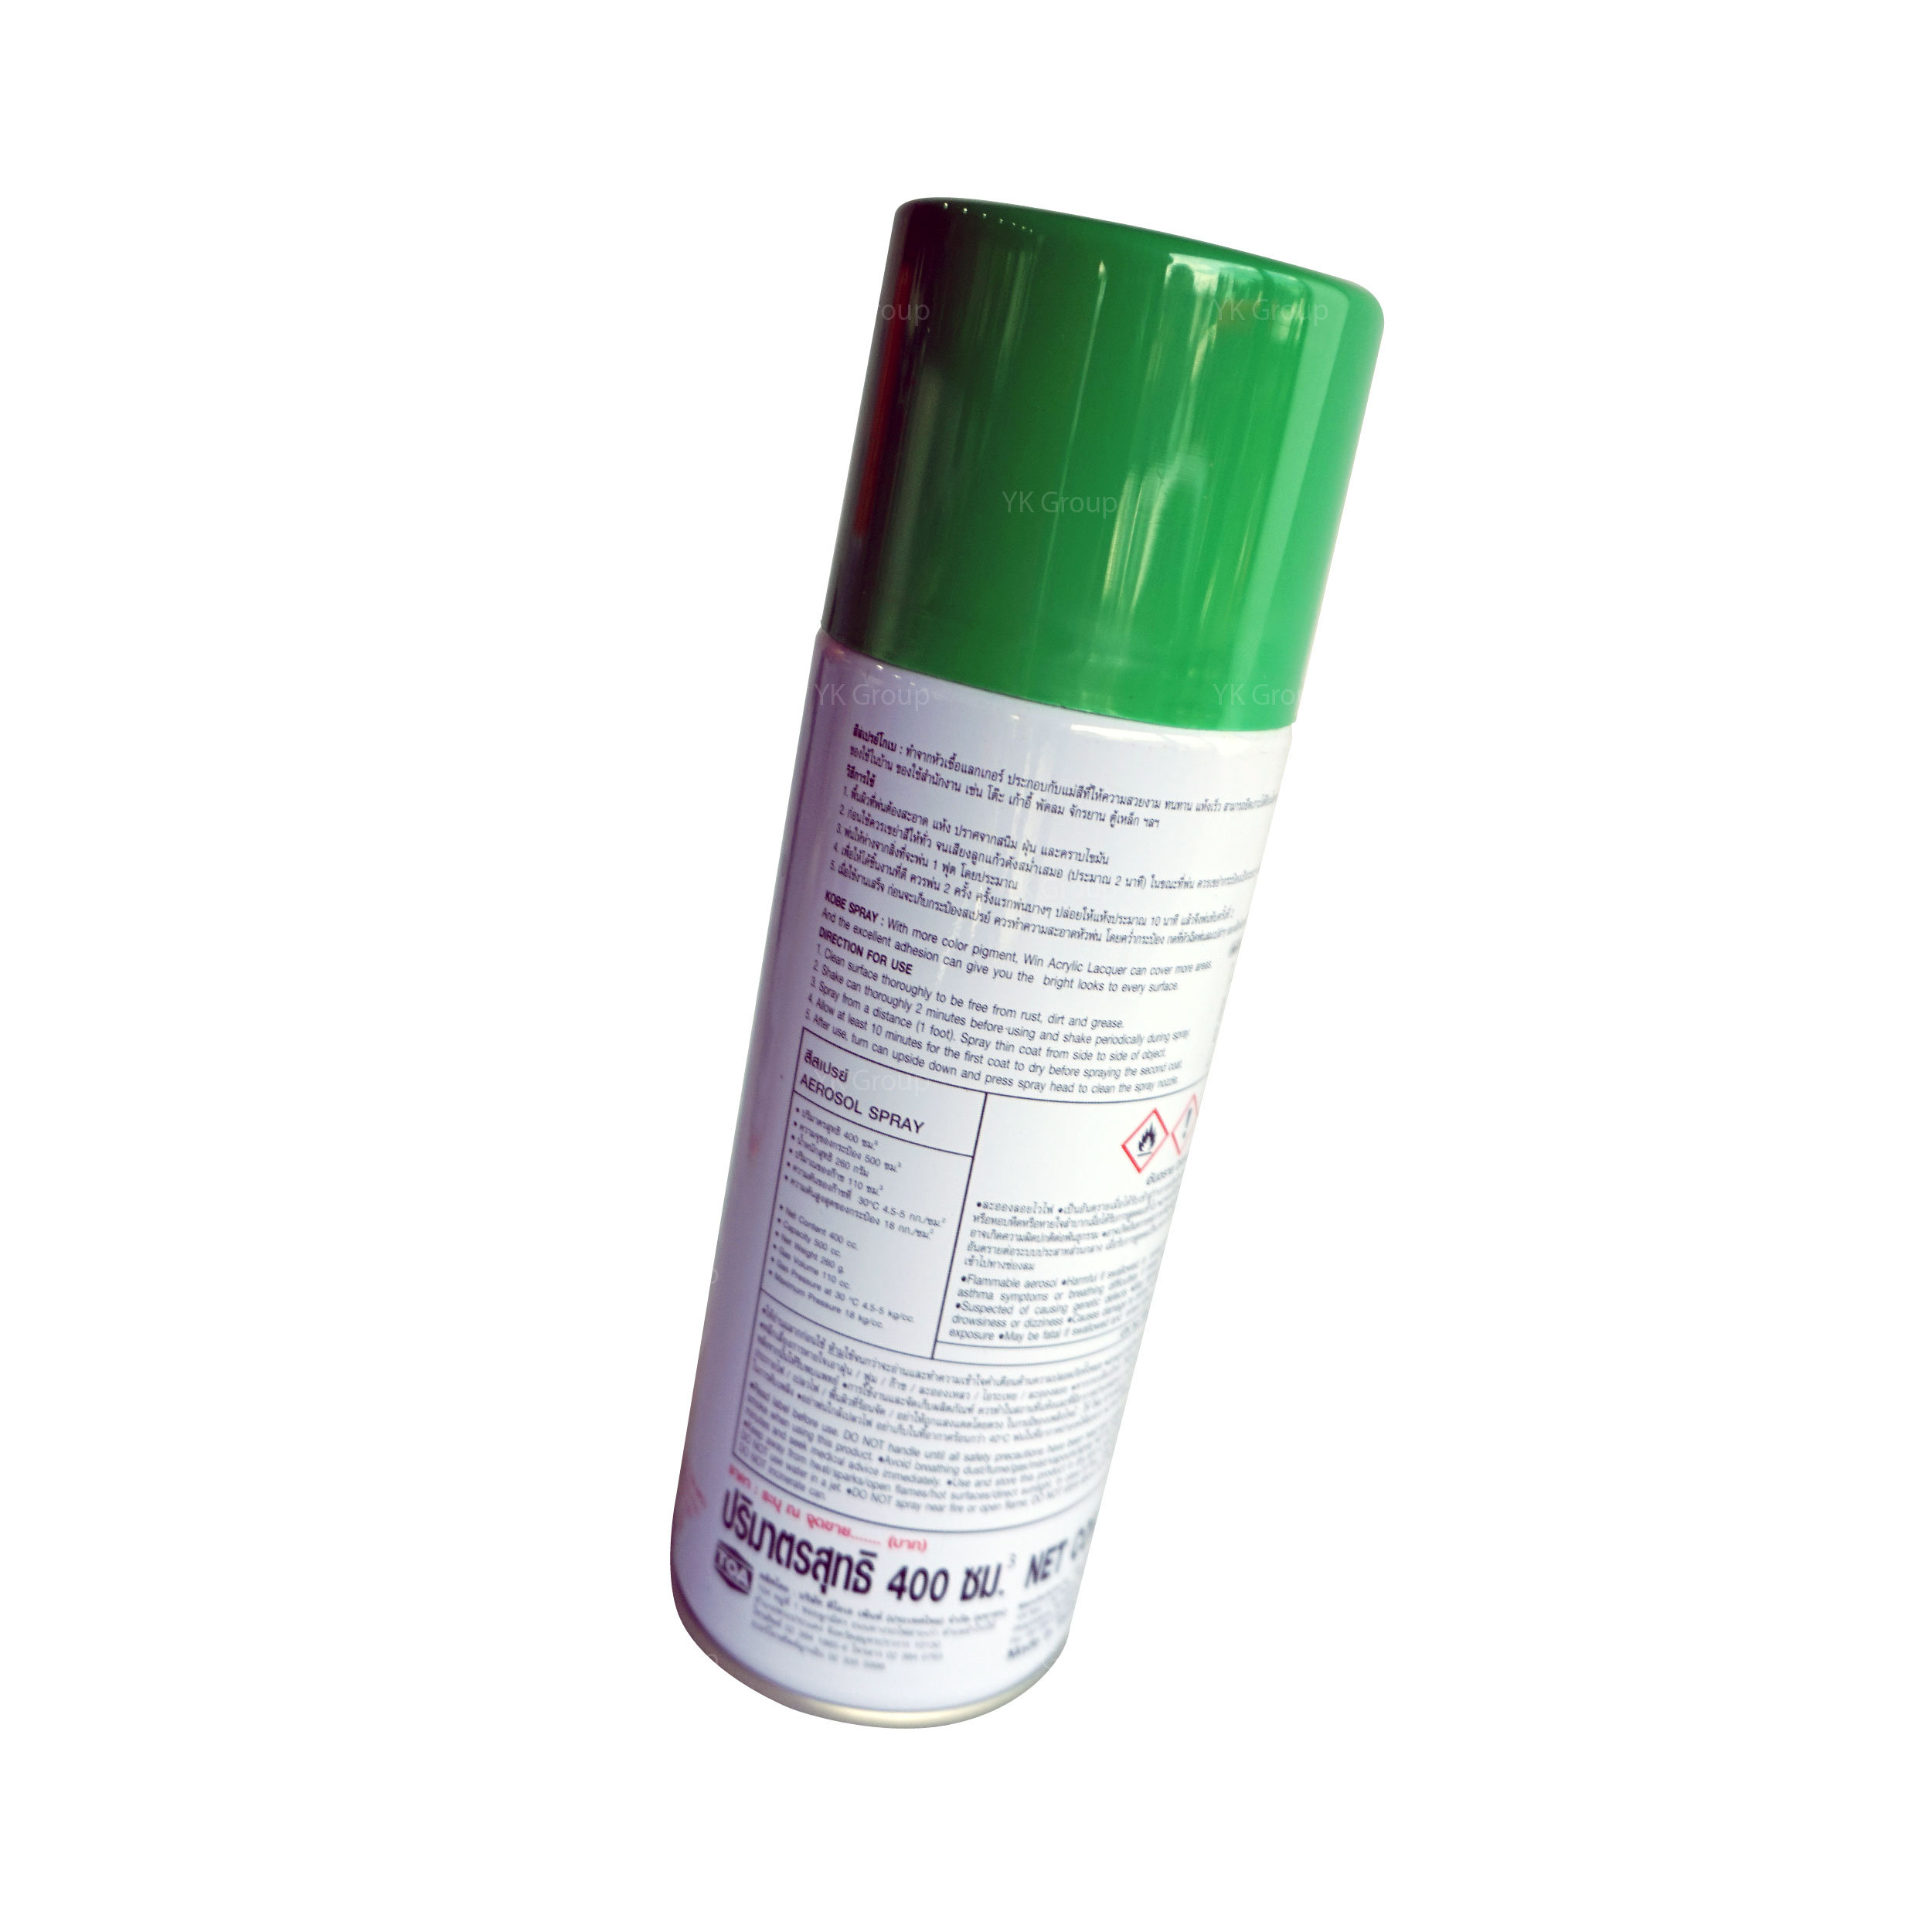Aerosol_cans: (662, 184, 1396, 1741)
